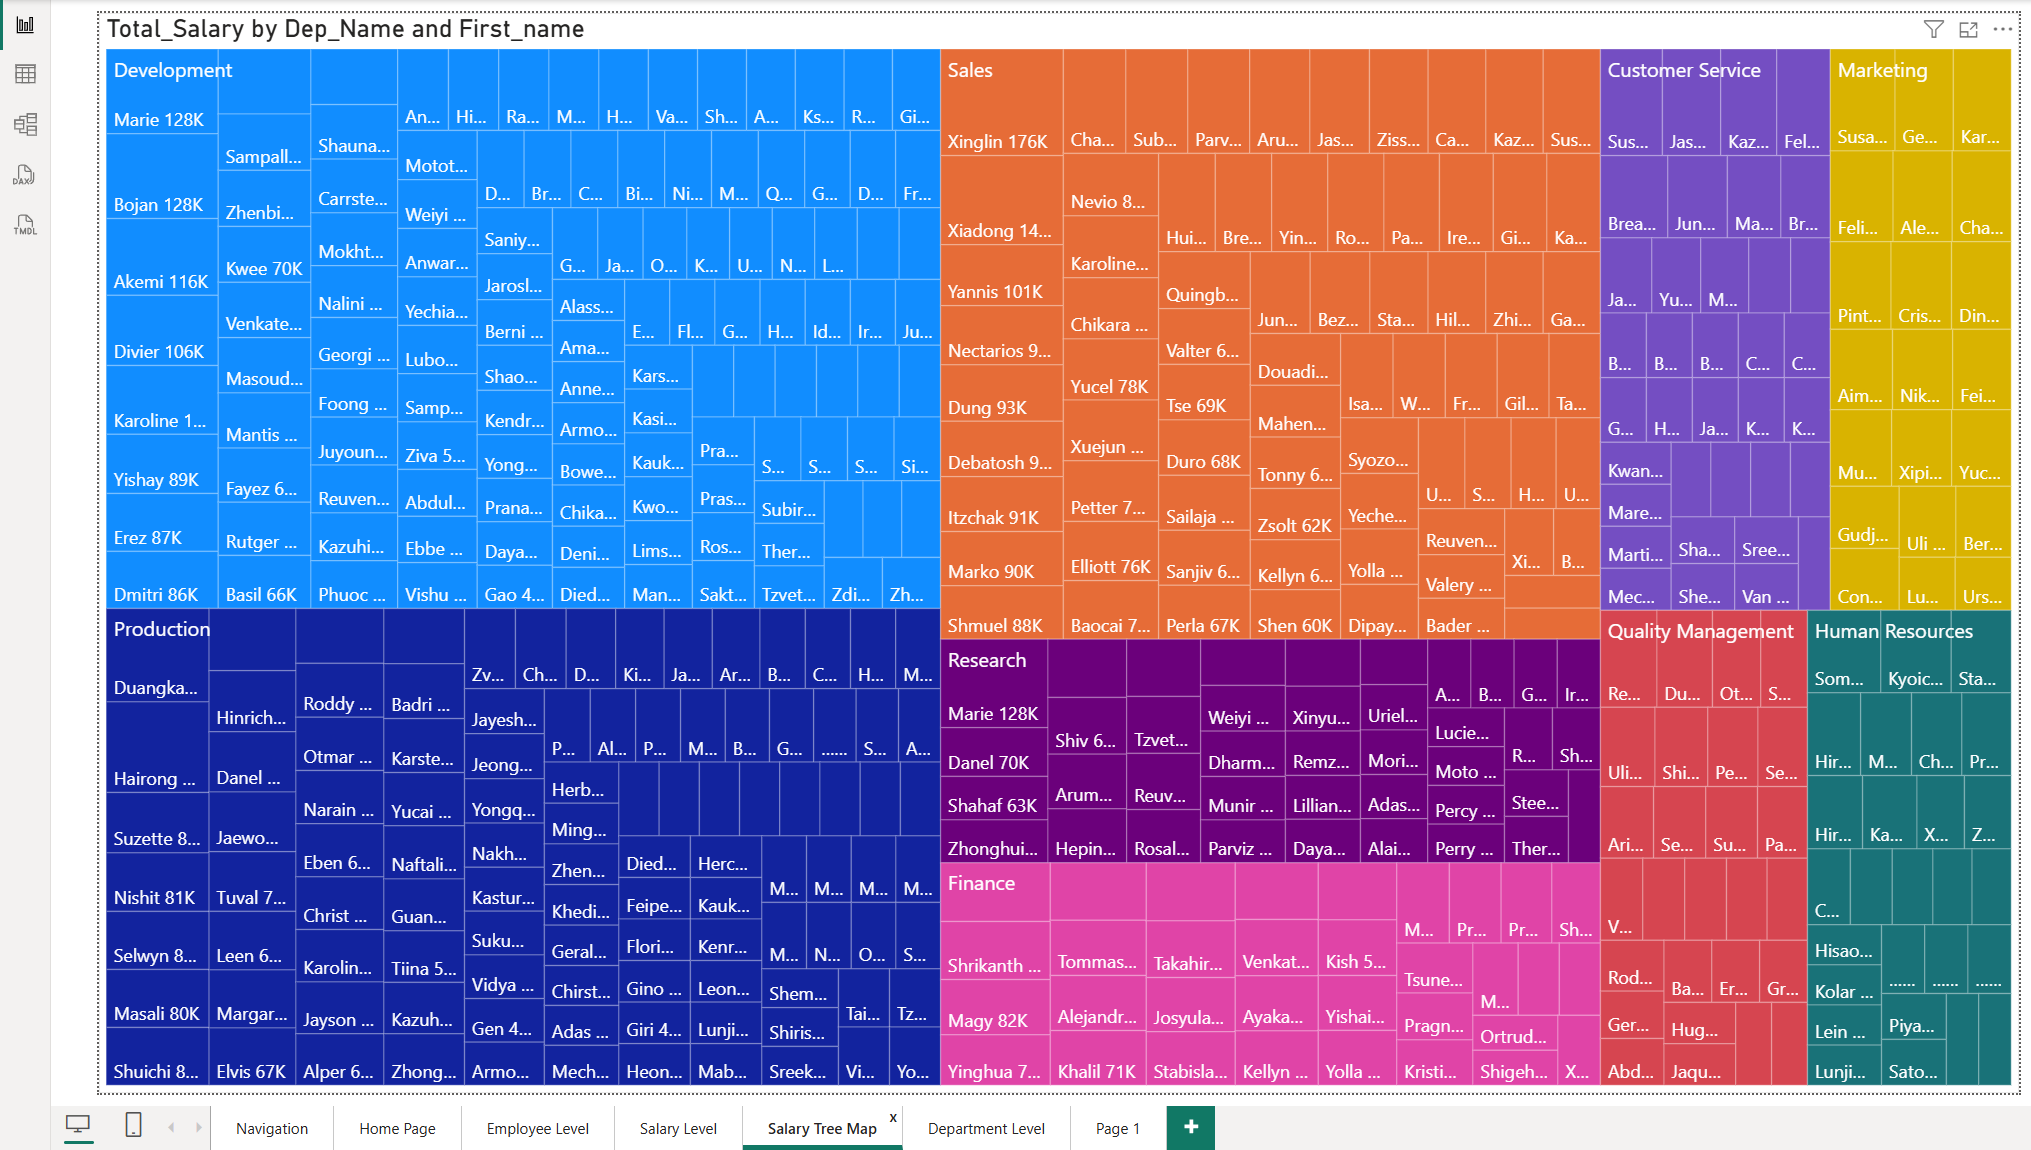

The dashboard page shown, as its layout file describes it:
{"tool":"powerbi","page":{"name":"Salary Tree Map","canvas":[1280,720],"ordinal":4},"visuals":[{"type":"treemap","fields":{"Values":["Emp_Info.Total_Salary"],"Group":["Dept_Info.Dep_Name"],"Details":["Emp_Info.First_name"]},"box":[0,0,1280,720],"z":0}]}

Visuals, with their boxes on the page's 1280x720 design canvas (x1, y1, x2, y2). These are canvas units, not pixel positions in the 2031x1150 screenshot, which may show the page scaled, cropped or inside an application window:
treemap - Emp_Info.Total_Salary x Dept_Info.Dep_Name: [left=0, top=0, right=1280, bottom=720]
